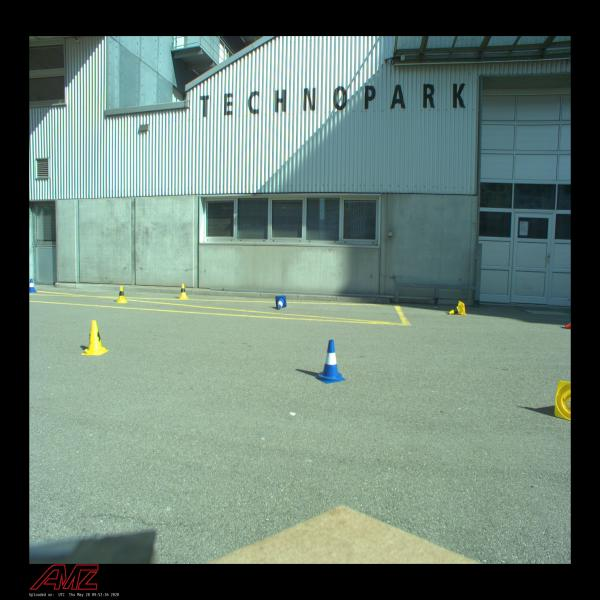blue_cone: (314, 339, 346, 384), (275, 295, 287, 310), (30, 279, 36, 293)
yellow_cone: (81, 320, 109, 356), (449, 300, 466, 315), (116, 286, 128, 303), (178, 283, 189, 299)
